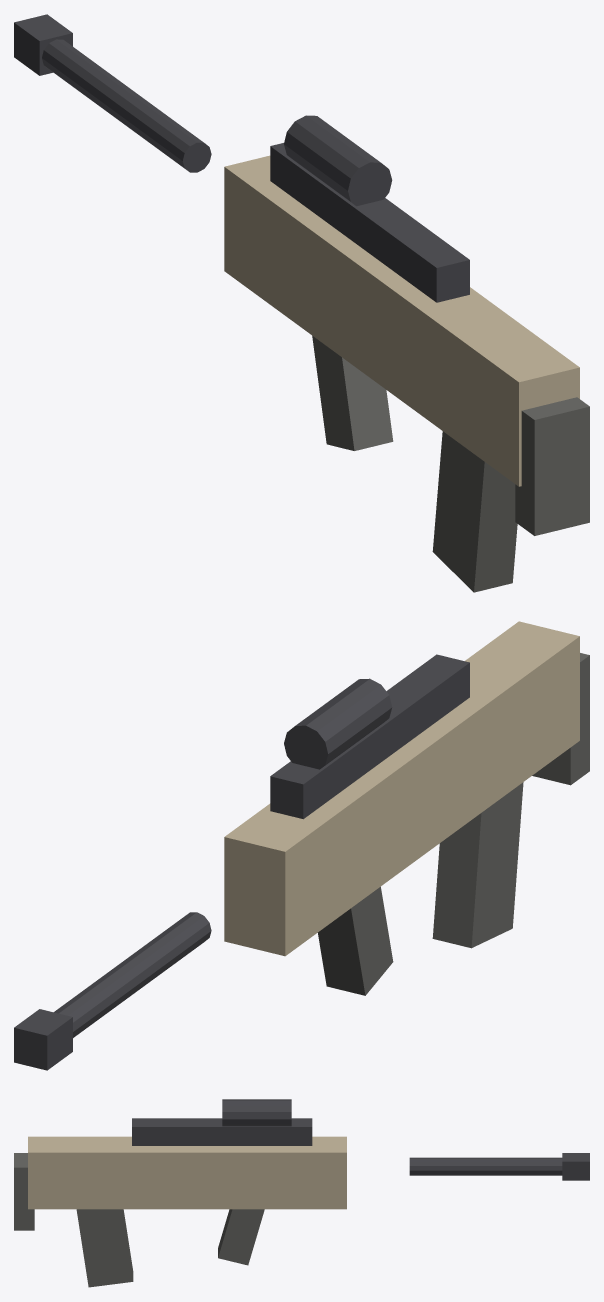
Rendered from burst_rifle.glb.
The picture shows the model from 3 angles, top to bottom: view 1: azimuth 30°, elevation 25°; view 2: azimuth 150°, elevation 25°; view 3: azimuth 270°, elevation 25°; orthographic projection. The views are drawn at different scales.
Visible parts, largest first — view 1: BurstRifle; view 2: BurstRifle; view 3: BurstRifle.
Part boxes in pixels (x1=…): BurstRifle: x1=14, y1=14, x2=589, y2=592; BurstRifle: x1=14, y1=621, x2=589, y2=1070; BurstRifle: x1=14, y1=1099, x2=589, y2=1287.
Size of the model in its own units: 0.055 by 0.2888 by 0.83.
